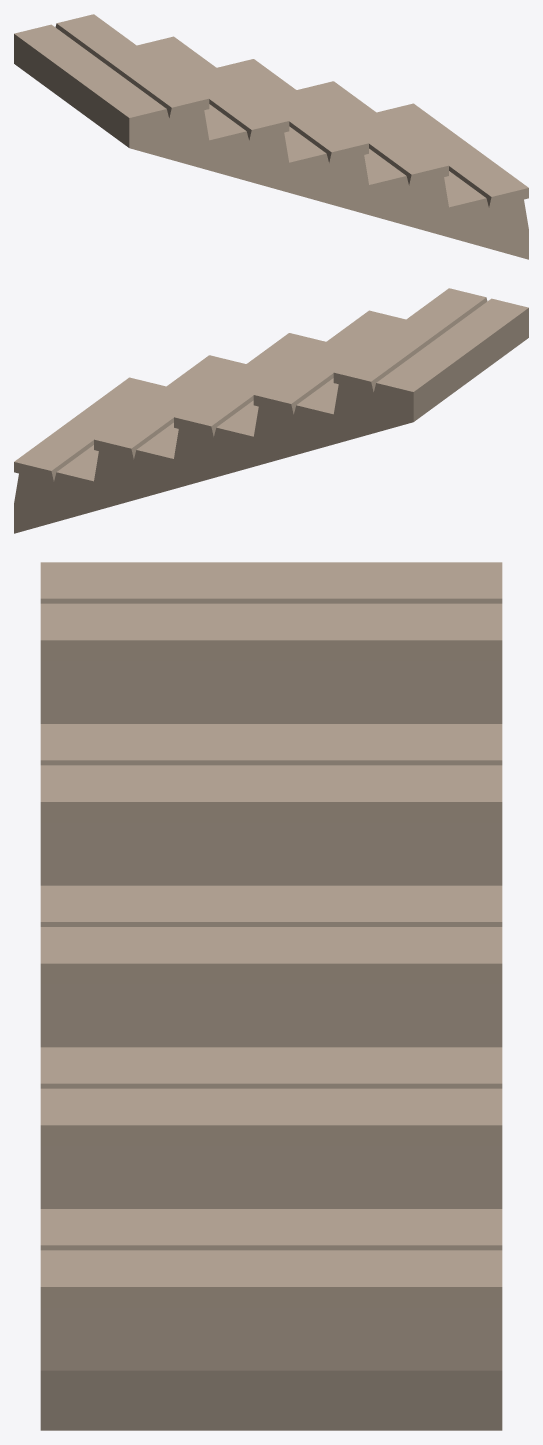
Rendered from Wood_Steps.glb.
The picture shows the model from 3 angles, top to bottom: view 1: azimuth 30°, elevation 25°; view 2: azimuth 150°, elevation 25°; view 3: azimuth 270°, elevation 25°; orthographic projection. The views are drawn at different scales.
Visible parts, largest first — view 1: object1; view 2: object1; view 3: object1.
Part boxes in pixels (bbox=[...]): object1: bbox=[14, 14, 528, 259]; object1: bbox=[14, 288, 528, 533]; object1: bbox=[40, 562, 502, 1430].
Size of the model in its own units: 2 by 1.14 by 1.
